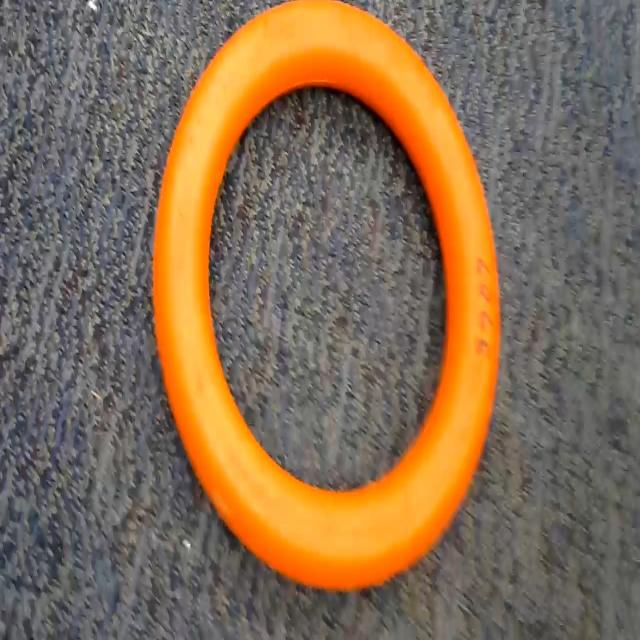note: (135, 0, 547, 592)
